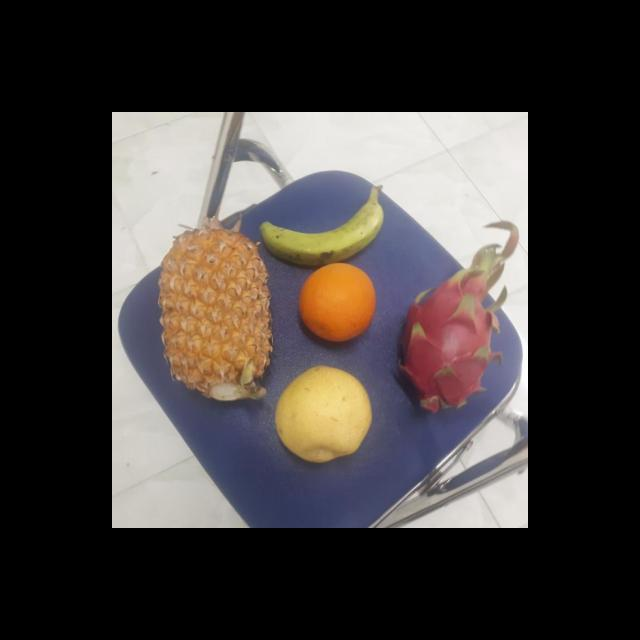banana: (255, 176, 386, 269)
orange: (296, 261, 380, 342)
pear: (269, 367, 370, 463)
pineapple: (156, 228, 271, 404)
pitaya: (390, 273, 499, 413)
